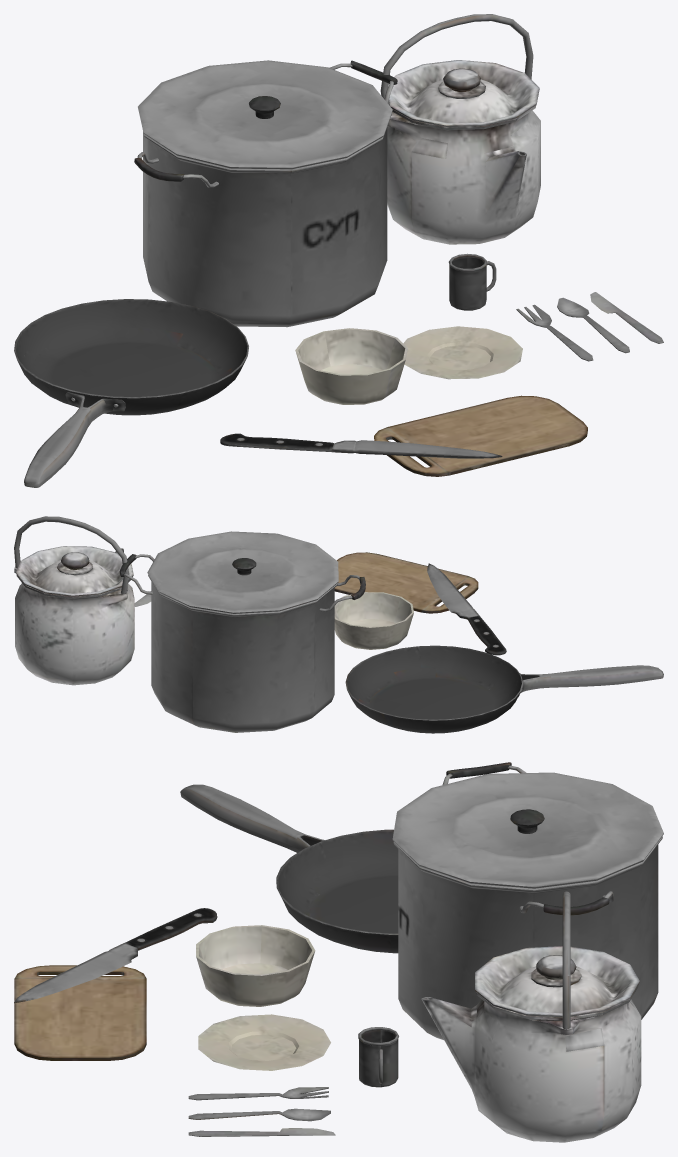
File: kitchen.glb
3 renders of one model, top to bottom at view 1: azimuth 30°, elevation 25°; view 2: azimuth 150°, elevation 25°; view 3: azimuth 270°, elevation 25°, orthographic. The views are drawn at different scales.
Parts seen in each view (by area): view 1: Cylinder.002, Cylinder.003, Cylinder, Cylinder.007, Cube.006, Cylinder.008, Cylinder.009, Cylinder.010, Plane, Cube, Cylinder.011, Vert.002 (+5 smaller); view 2: Cylinder.002, Cylinder, Cylinder.003, Cylinder.007, Cylinder.008, Cube.006, Cylinder.009, Plane, Cube, Vert.002, Cube.001, Vert (+1 smaller); view 3: Cylinder.002, Cylinder.003, Cylinder.007, Cylinder, Cube.006, Cylinder.008, Cylinder.009, Cylinder.010, Plane, Cube, Cylinder.011, Cube.001 (+6 smaller).
Boxes of the visible parts, x1=… form: Cylinder.002: x1=143, y1=113, x2=391, y2=327; Cylinder.003: x1=138, y1=60, x2=392, y2=169; Cylinder: x1=14, y1=299, x2=248, y2=415; Cylinder.007: x1=387, y1=105, x2=540, y2=244; Cube.006: x1=374, y1=395, x2=587, y2=476; Cylinder.008: x1=388, y1=60, x2=539, y2=126; Cylinder.009: x1=295, y1=328, x2=407, y2=404; Cylinder.010: x1=403, y1=326, x2=522, y2=379; Plane: x1=24, y1=392, x2=125, y2=487; Cube: x1=228, y1=440, x2=502, y2=458; Cylinder.011: x1=449, y1=256, x2=486, y2=310; Vert.002: x1=380, y1=14, x2=533, y2=115; Cylinder.002: x1=148, y1=575, x2=337, y2=732; Cylinder: x1=345, y1=645, x2=522, y2=733; Cylinder.003: x1=147, y1=531, x2=338, y2=613; Cylinder.007: x1=14, y1=548, x2=134, y2=685; Cylinder.008: x1=16, y1=546, x2=133, y2=596; Cube.006: x1=334, y1=552, x2=478, y2=613; Cylinder.009: x1=334, y1=592, x2=413, y2=649; Plane: x1=518, y1=665, x2=663, y2=697; Cube: x1=427, y1=563, x2=479, y2=619; Vert.002: x1=14, y1=516, x2=129, y2=594; Cube.001: x1=467, y1=616, x2=506, y2=655; Vert: x1=124, y1=554, x2=359, y2=611; Cylinder.002: x1=393, y1=836, x2=662, y2=1039; Cylinder.003: x1=392, y1=772, x2=663, y2=888; Cylinder.007: x1=421, y1=984, x2=641, y2=1142; Cylinder: x1=276, y1=829, x2=398, y2=953; Cube.006: x1=14, y1=965, x2=146, y2=1060; Cylinder.008: x1=475, y1=946, x2=639, y2=1017; Cylinder.009: x1=196, y1=925, x2=315, y2=1006; Cylinder.010: x1=198, y1=1014, x2=330, y2=1070; Plane: x1=180, y1=784, x2=324, y2=852; Cube: x1=14, y1=943, x2=137, y2=1003; Cylinder.011: x1=359, y1=1030, x2=398, y2=1087; Cube.001: x1=125, y1=908, x2=217, y2=950.
Bounding box in the file's own units: 16.08 × 4.61 × 12.43.
1 material, 1 textured.
